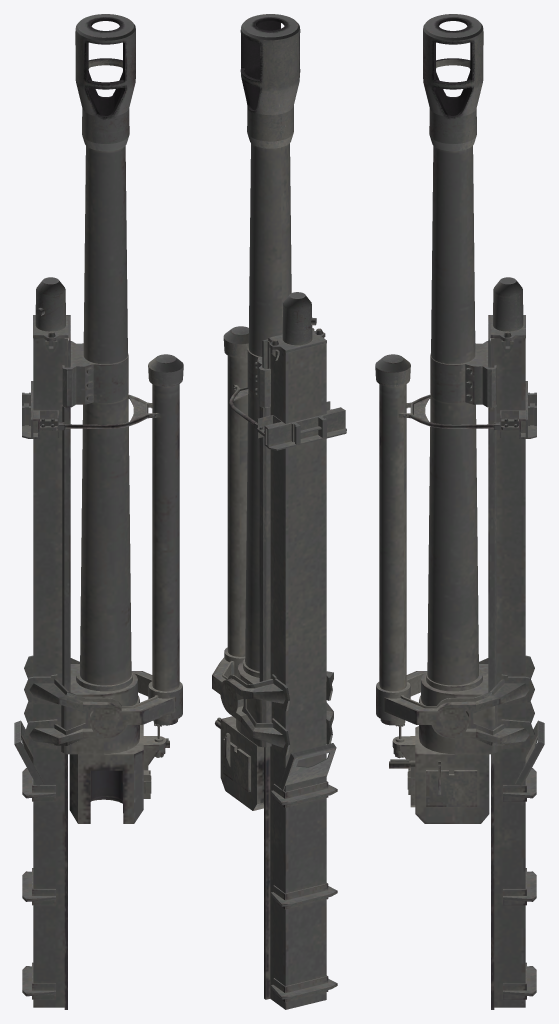
The model's file is Gun_02.glb.
3 renders of one model, left to right at view 1: azimuth 90°, elevation 25°; view 2: azimuth 210°, elevation 25°; view 3: azimuth 270°, elevation 25°, orthographic.
Visible parts, largest first — view 1: set_0_group_0; view 2: set_0_group_0; view 3: set_0_group_0.
Part boxes in pixels (<box>): set_0_group_0: <box>14,14,183,1009</box>; set_0_group_0: <box>212,14,346,1009</box>; set_0_group_0: <box>375,14,544,1009</box>.
Size of the model in its own units: 0.3746 by 4.21 by 0.6651.
1 material, 1 textured.
